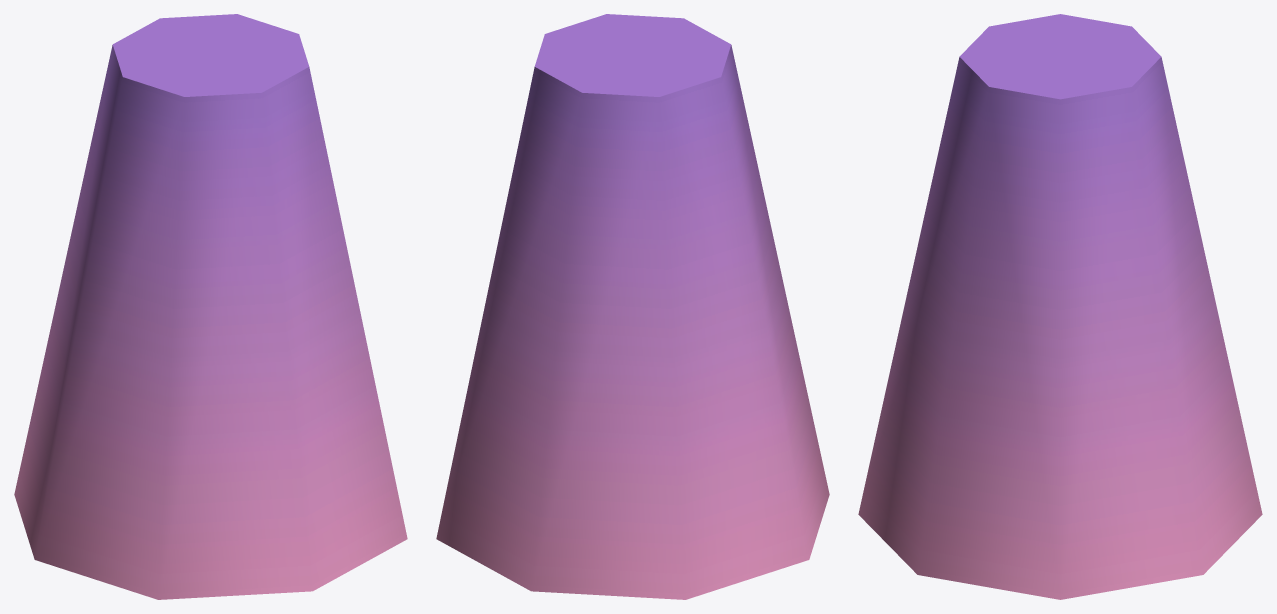
Rendered from kenney-tower-defense-enemy-ufo-beam.glb.
The picture shows the model from 3 angles, left to right: view 1: azimuth 30°, elevation 25°; view 2: azimuth 150°, elevation 25°; view 3: azimuth 270°, elevation 25°; orthographic projection.
Parts seen in each view (by area): view 1: enemy-ufo-beam; view 2: enemy-ufo-beam; view 3: enemy-ufo-beam.
Part boxes in pixels (box(x1,y1,x2,y2)): enemy-ufo-beam: box(14, 14, 407, 599); enemy-ufo-beam: box(436, 14, 829, 599); enemy-ufo-beam: box(858, 14, 1262, 599).
Size of the model in its own units: 0.8 by 1 by 0.8.
Materials: 1 (1 with a texture image).
